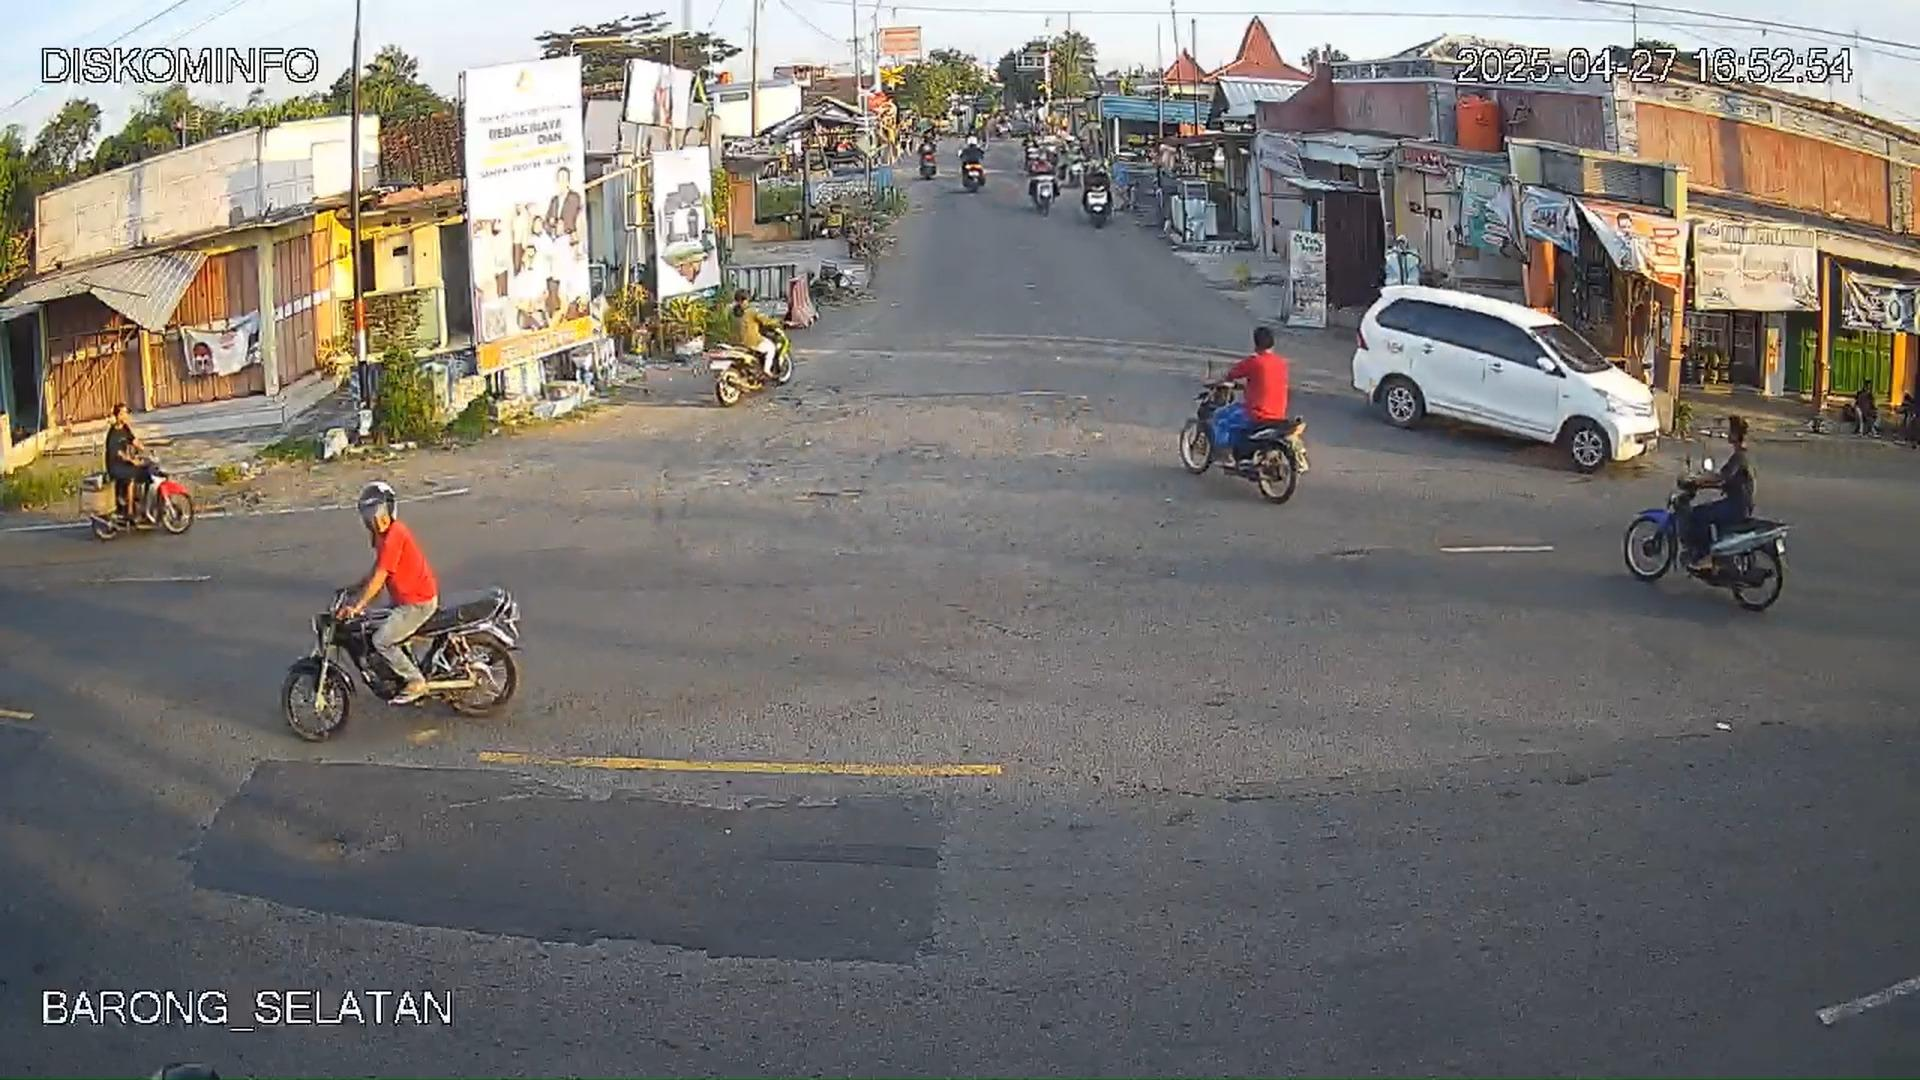Motor: (278, 547, 526, 765), (1623, 471, 1783, 630), (1182, 335, 1320, 492), (709, 318, 796, 407), (116, 455, 195, 535)
mobil: (1342, 281, 1651, 469)
